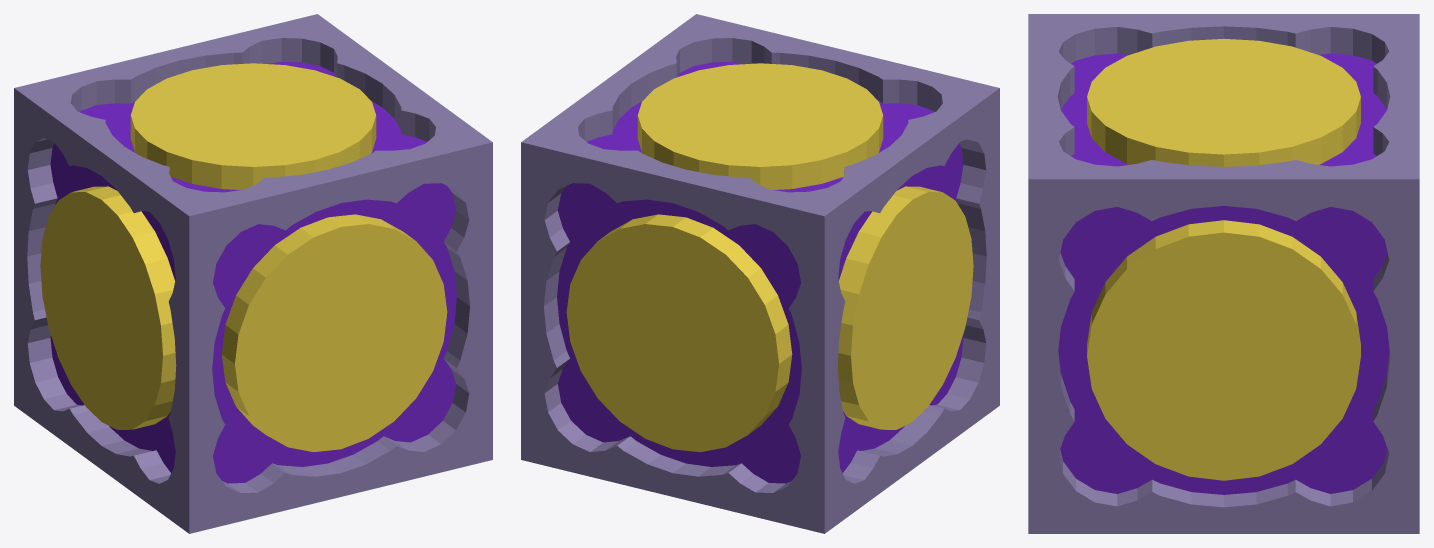
The model's file is win-block.glb.
3 views of the same model, side by side, from view 1: azimuth 30°, elevation 25°; view 2: azimuth 150°, elevation 25°; view 3: azimuth 270°, elevation 25° (orthographic). The views are drawn at different scales.
Visible parts, largest first — view 1: Cube; view 2: Cube; view 3: Cube.
Boxes of the visible parts, <box> form: Cube: <box>14,14,492,533</box>; Cube: <box>521,14,999,533</box>; Cube: <box>1028,14,1419,533</box>.
Size of the model in its own units: 1 by 1 by 1.
